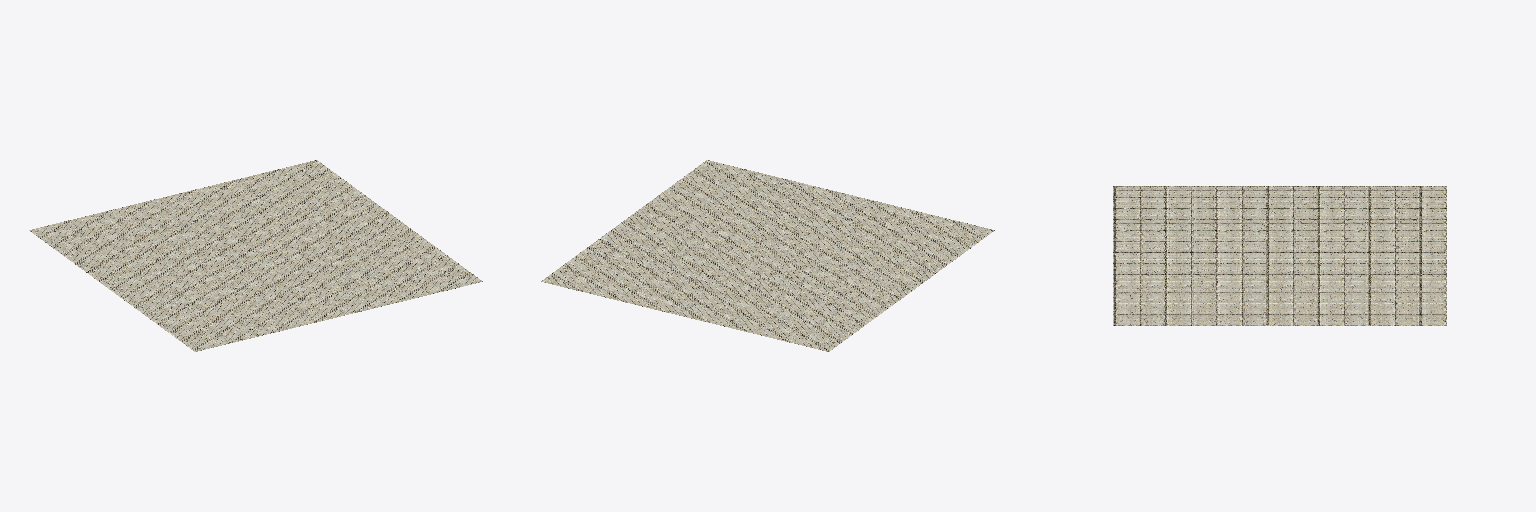
The picture shows the model from 3 angles: view 1: azimuth 30°, elevation 25°; view 2: azimuth 150°, elevation 25°; view 3: azimuth 270°, elevation 25°; orthographic projection.
Parts seen in each view (by area): view 1: Plane01; view 2: Plane01; view 3: Plane01.
Part boxes in pixels (left/top/right/bottom): Plane01: left=29, top=160, right=482, bottom=351; Plane01: left=541, top=160, right=994, bottom=351; Plane01: left=1113, top=186, right=1446, bottom=325.
Bounding box in the file's own units: 4000 × 0 × 4000.
1 materials, 1 textured.